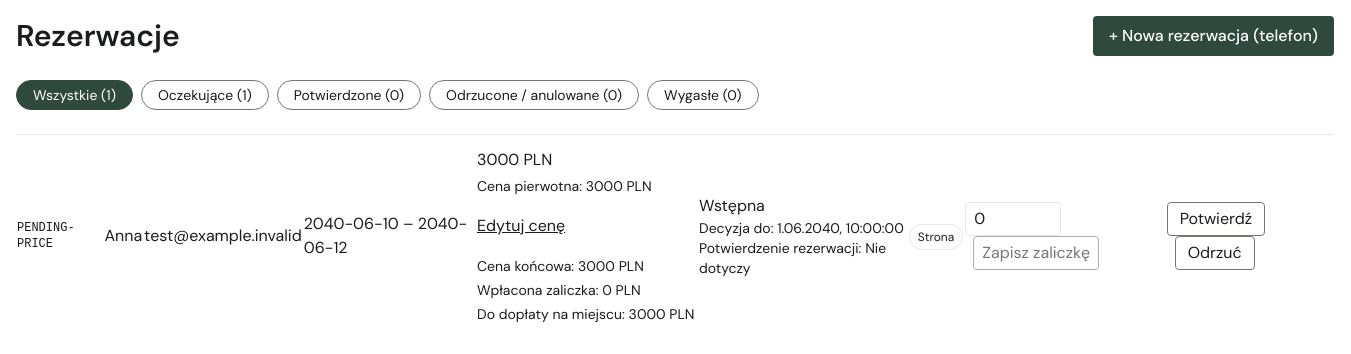
Test: pending booking price editor › does not treat an empty deposit draft as a saved zero deposit
The width and height of the screenshot is (1351, 354).
Expected: the text "Anna" is shown, [103,134,143,337]
Clear the field named "Zaliczka Anna". click: (1013, 219)
box: [965,202,1061,236]
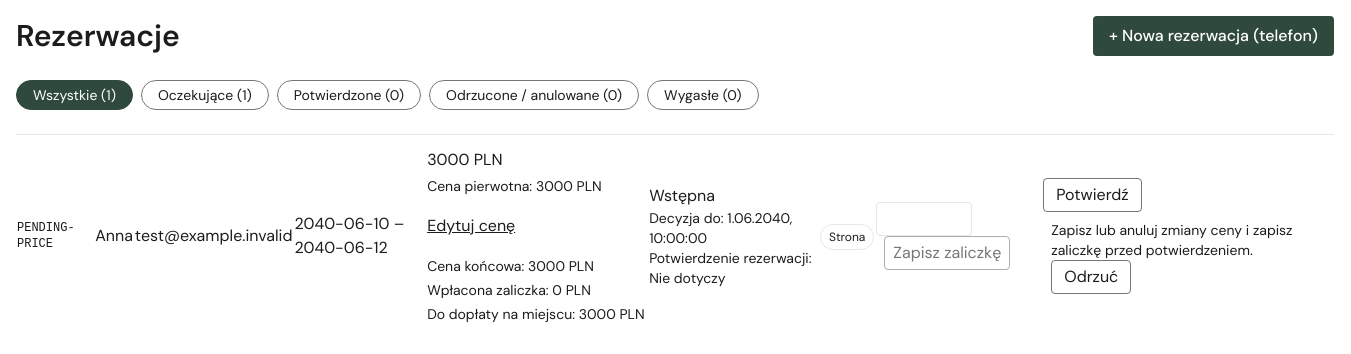
Expected: the button "Potwierdź" is disabled, [1043,178,1142,212]
